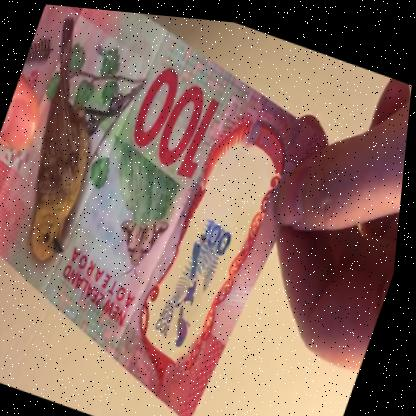100B: (150, 179, 253, 359)
